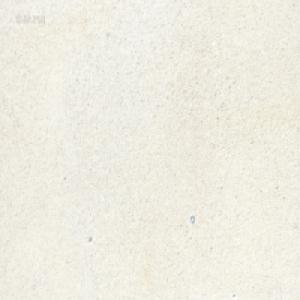Washer: (189, 214, 194, 223)
